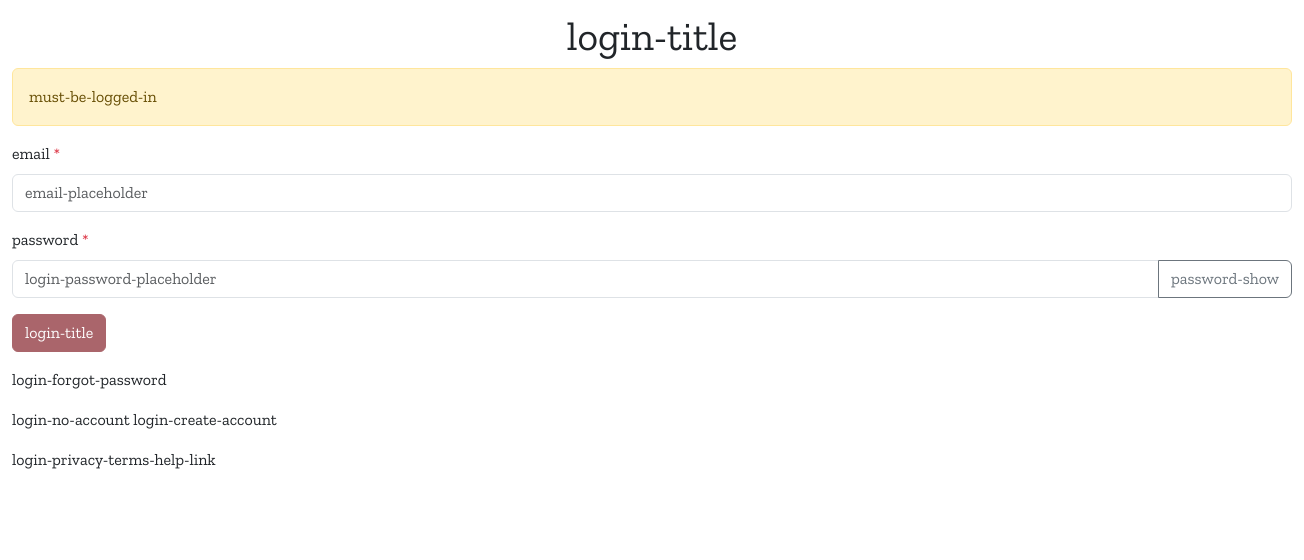
Test: Login › renders and submits the form when the form is valid but receives unknown error
// Fill the form
In the field with placeholder "email-placeholder": coordinates (652, 193) top-left (12, 174), bottom-right (1292, 212), type "test@example.com"
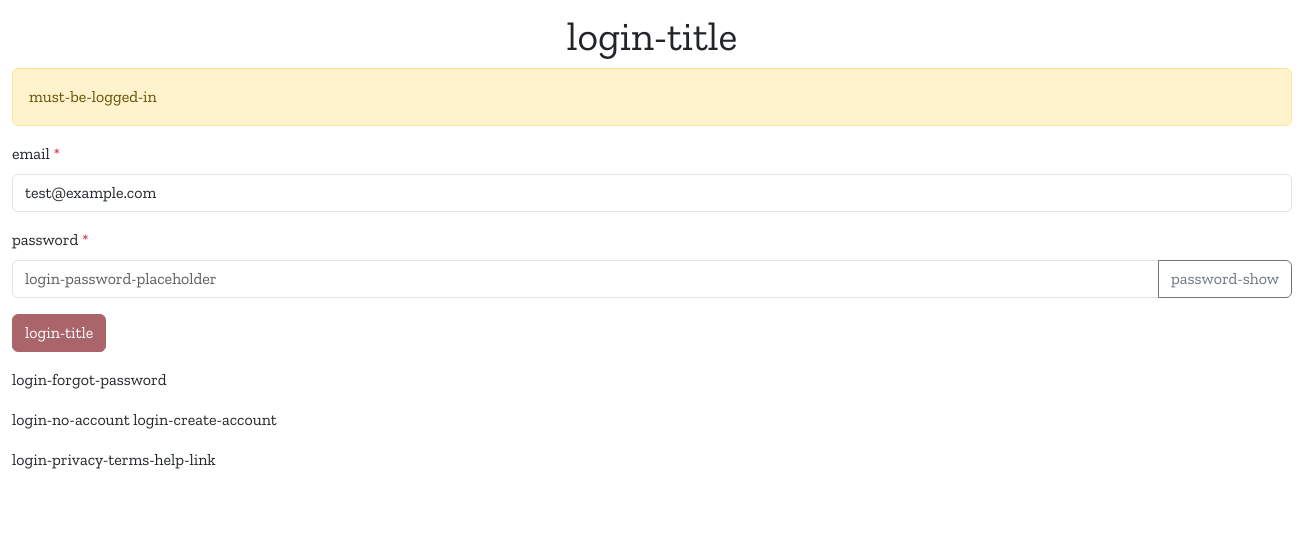
In the password field with placeholder "login-password-placeholder": coordinates (586, 279) top-left (12, 260), bottom-right (1159, 298), type "test"
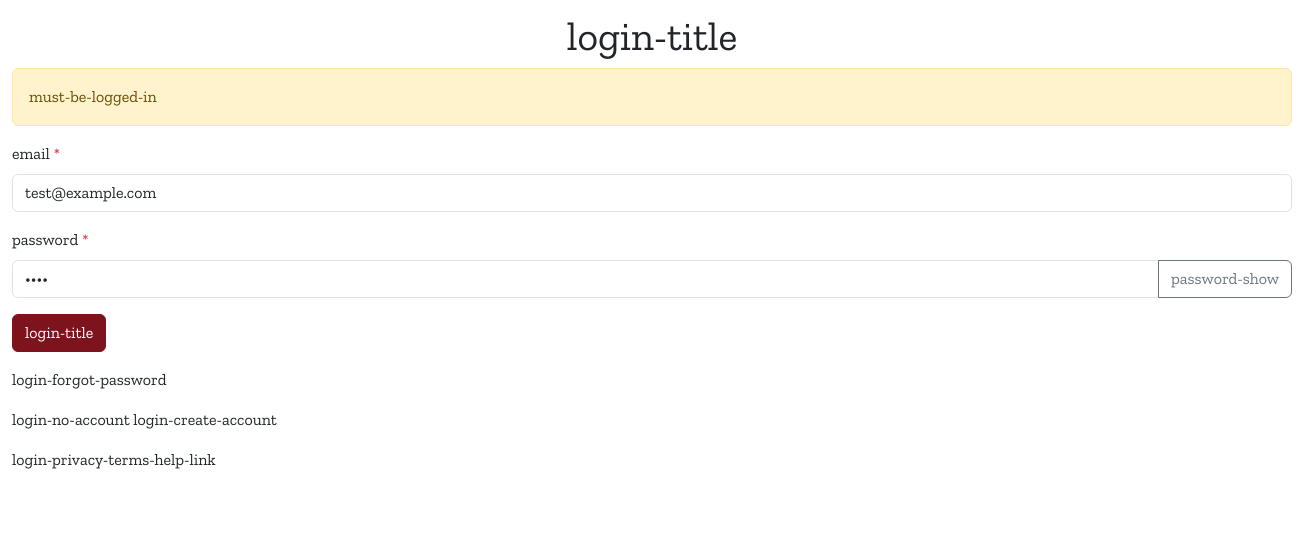
Submit the form from the button "login-title", box top-left (12, 314), bottom-right (106, 352)
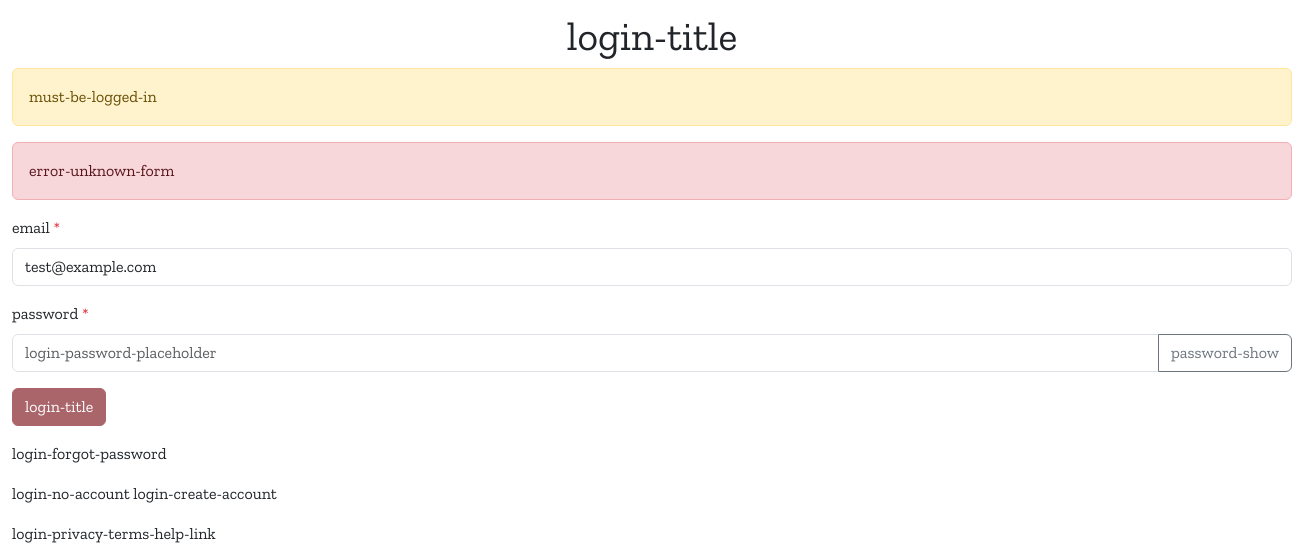
Expected: the text "error-unknown-form" is shown, top-left (12, 142), bottom-right (1292, 200)
Expected: the password field with placeholder "login-password-placeholder" is empty, top-left (12, 334), bottom-right (1159, 372)
